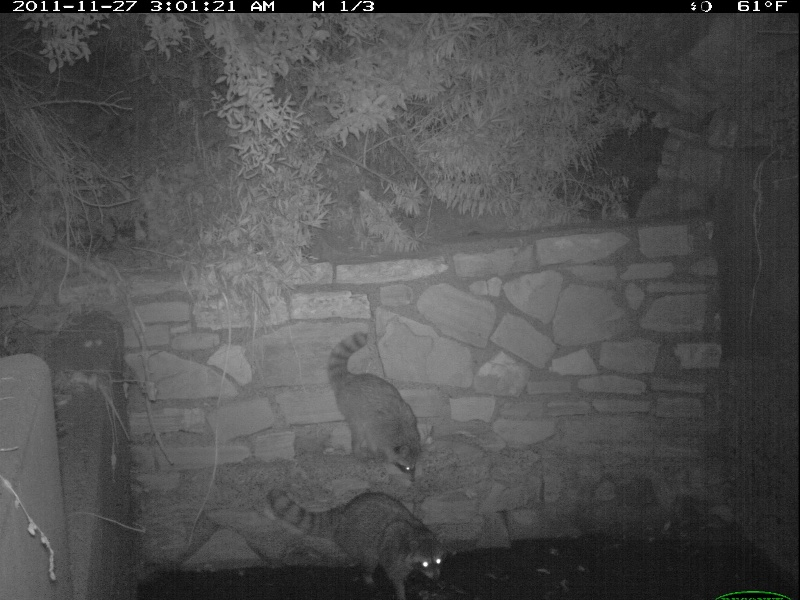raccoon: (267, 485, 450, 594), (325, 331, 427, 482)
